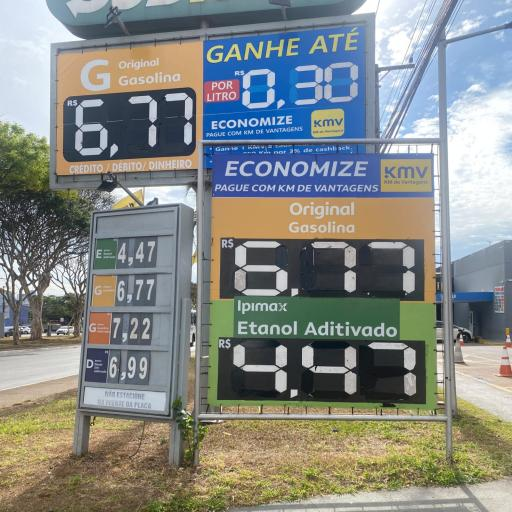GASOLINA AD: (89, 312, 111, 343)
S10: (87, 349, 112, 381)
placa: (82, 207, 182, 394)
preco: (110, 313, 154, 347), (109, 351, 152, 385)
